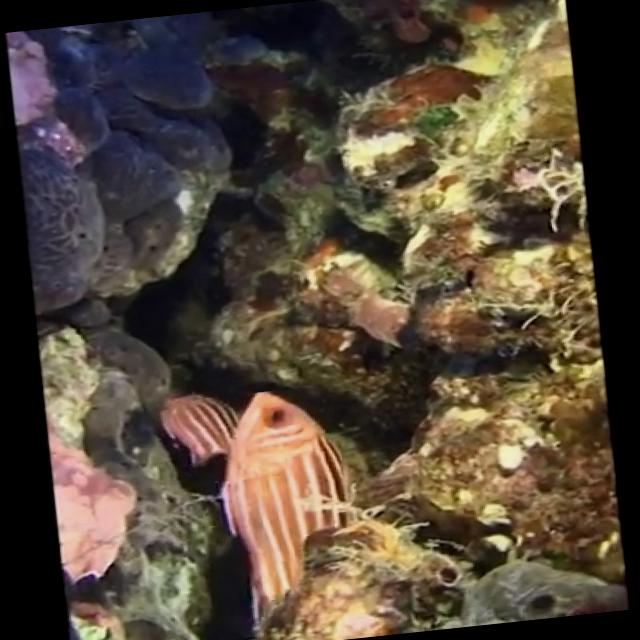Asker Baligi: (154, 373, 374, 640)
